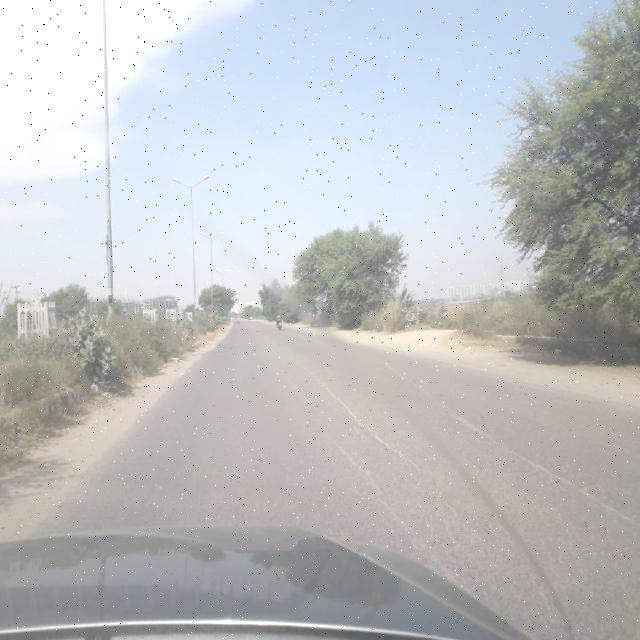D00: (403, 379, 634, 517), (311, 369, 437, 480), (328, 436, 438, 562)
